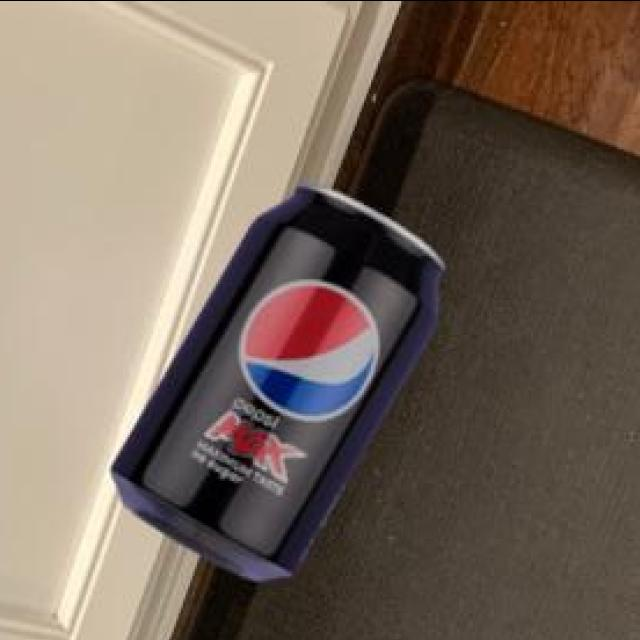logam: (108, 189, 439, 583)
